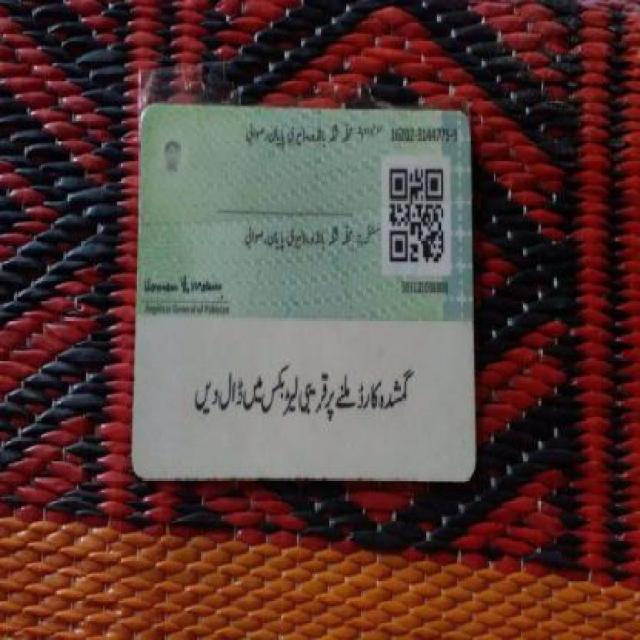Back: (130, 92, 478, 488)
